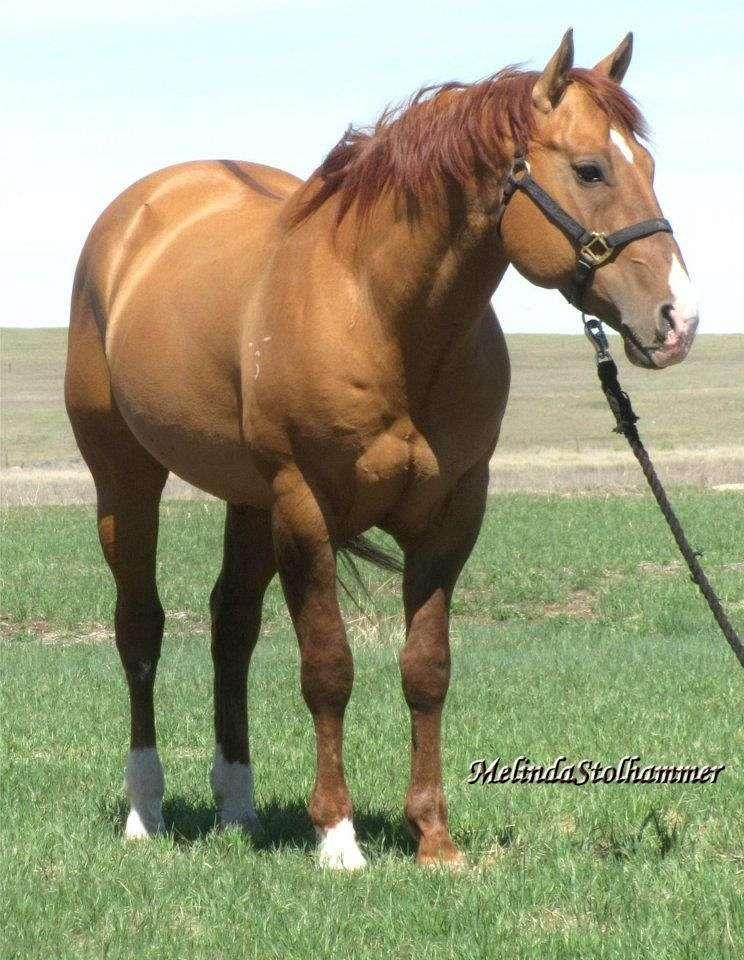horse: (52, 20, 708, 886)
